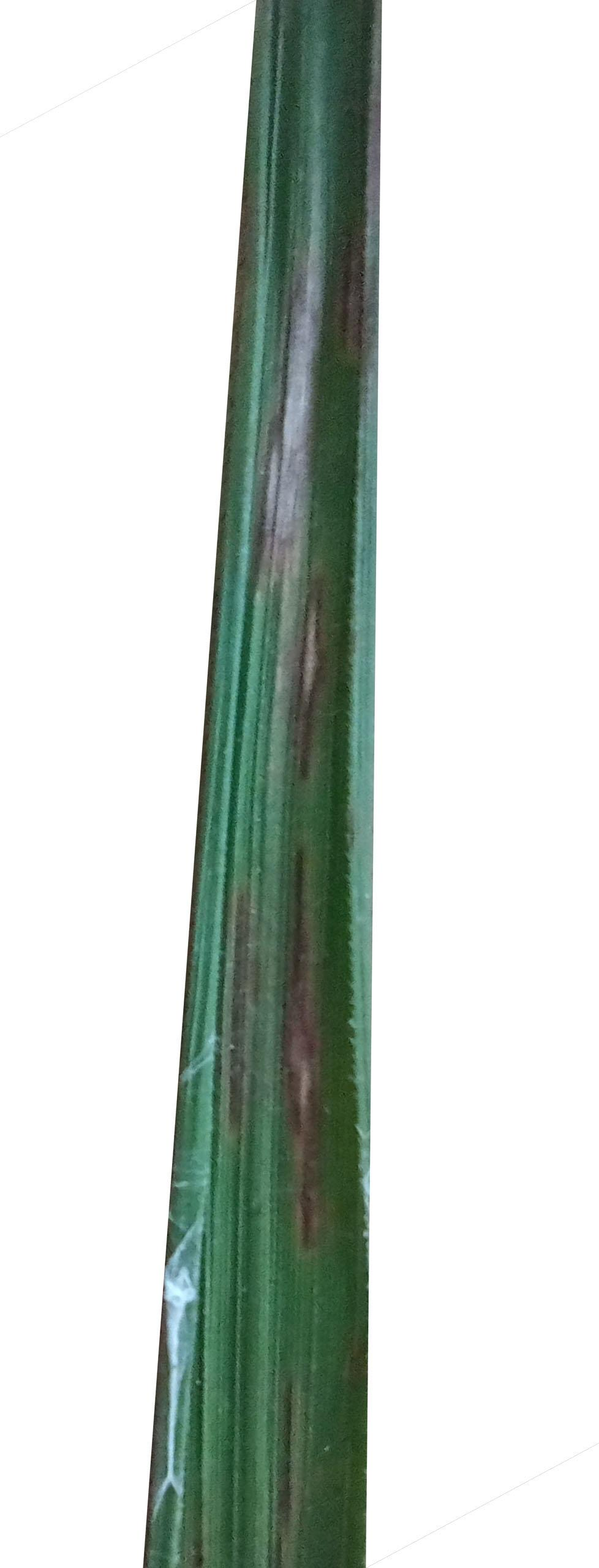Blight: (233, 0, 367, 1266)
